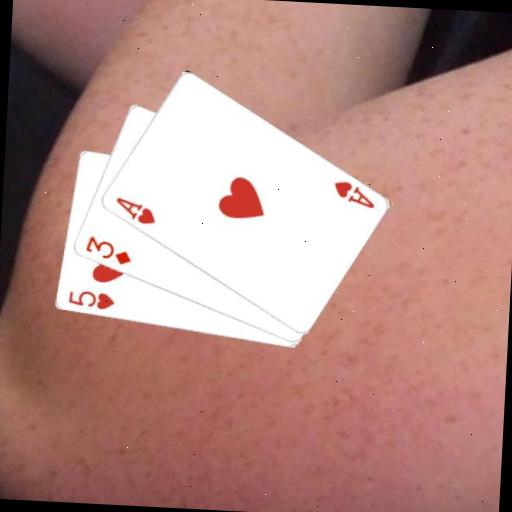3D: (81, 232, 134, 267)
5H: (65, 288, 117, 313)
AH: (329, 178, 377, 211), (111, 194, 158, 227)
